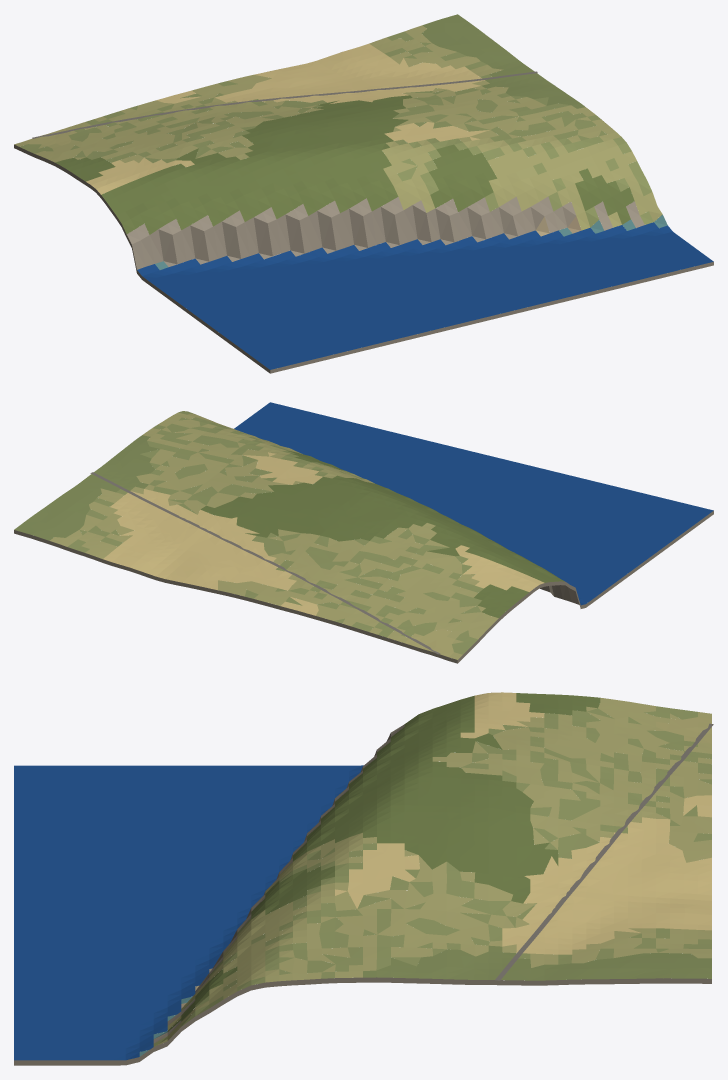
Rendered from parca_+1_-9-uzak.glb.
3 views of the same model, one above another, from view 1: azimuth 30°, elevation 25°; view 2: azimuth 150°, elevation 25°; view 3: azimuth 270°, elevation 25° (orthographic). The views are drawn at different scales.
Parts seen in each view (by area): view 1: parca_+1_-9_arazi_uzak, parca_+1_-9_yollar_uzak; view 2: parca_+1_-9_arazi_uzak, parca_+1_-9_yollar_uzak; view 3: parca_+1_-9_arazi_uzak, parca_+1_-9_yollar_uzak.
Part boxes in pixels (box(x1,y1,x2,y2)): parca_+1_-9_arazi_uzak: box(14, 14, 713, 373); parca_+1_-9_yollar_uzak: box(32, 71, 537, 138); parca_+1_-9_arazi_uzak: box(14, 402, 713, 663); parca_+1_-9_yollar_uzak: box(90, 472, 440, 654); parca_+1_-9_arazi_uzak: box(14, 692, 711, 1065); parca_+1_-9_yollar_uzak: box(495, 723, 713, 980).
Size of the model in its own units: 1004 by 160 by 1003.
